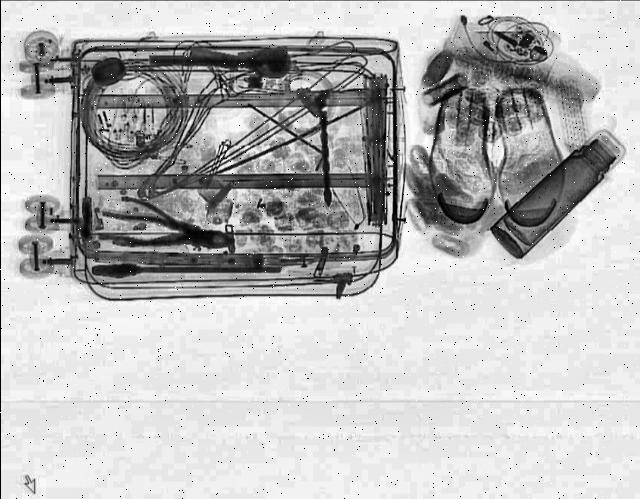Pliers: (94, 211, 236, 257)
